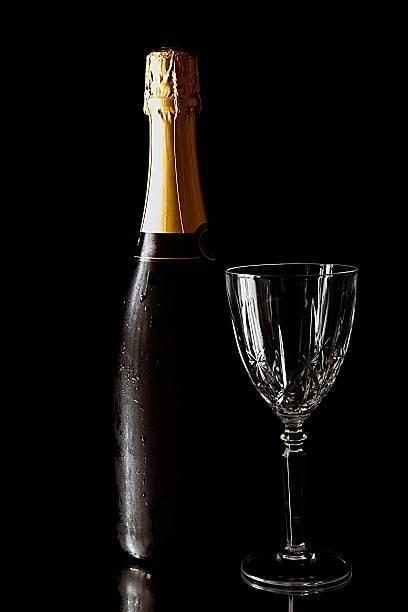bottle-glass: (111, 48, 245, 569)
glass-wine: (224, 258, 360, 595)
